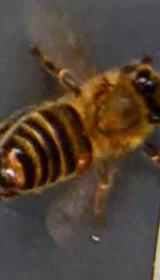varroa_mite: (66, 140, 98, 174)
